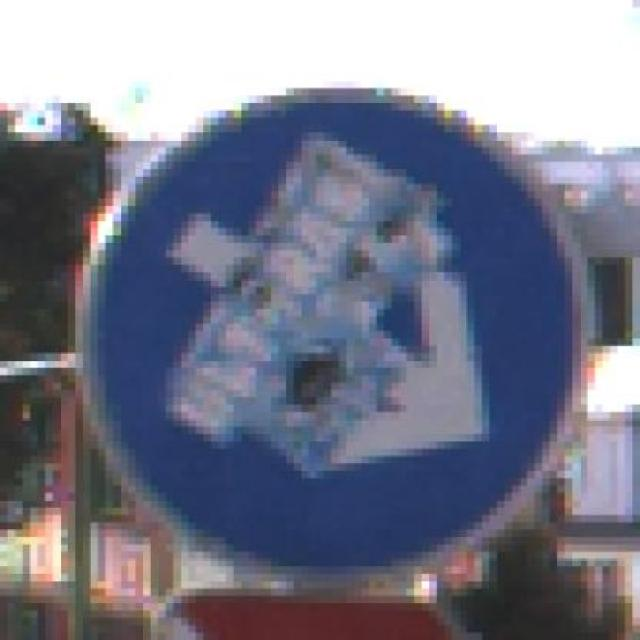Keep-Right: (60, 73, 611, 589)
